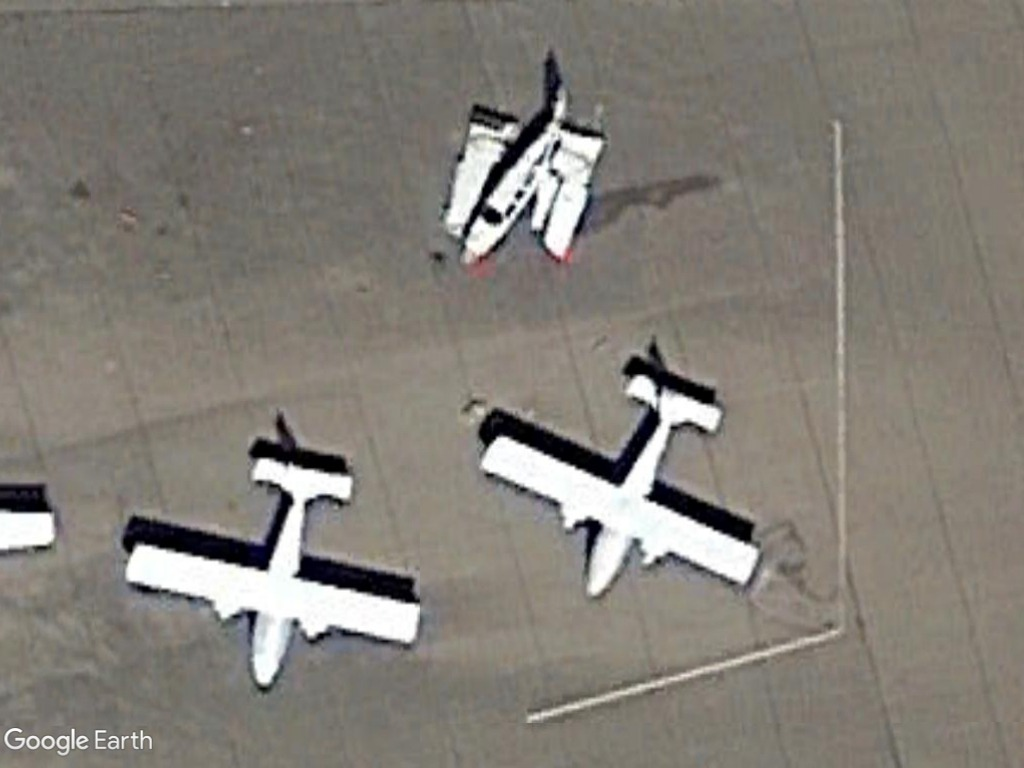trainer: (124, 443, 430, 695), (470, 361, 766, 610)
